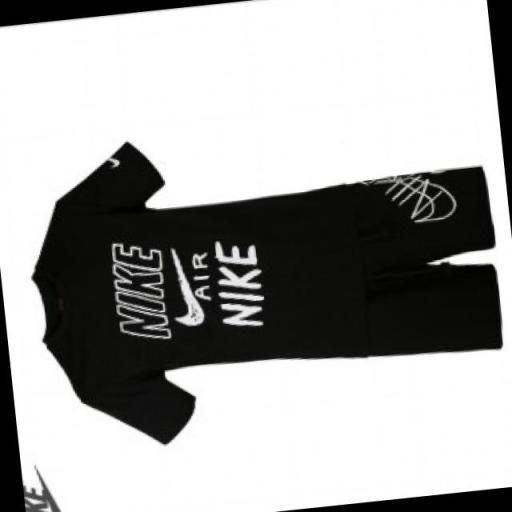Nike: (168, 242, 208, 332)
